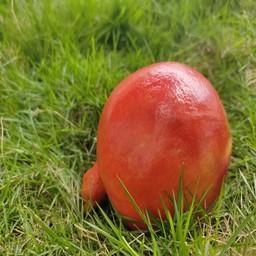pomegranate: (82, 61, 233, 230)
